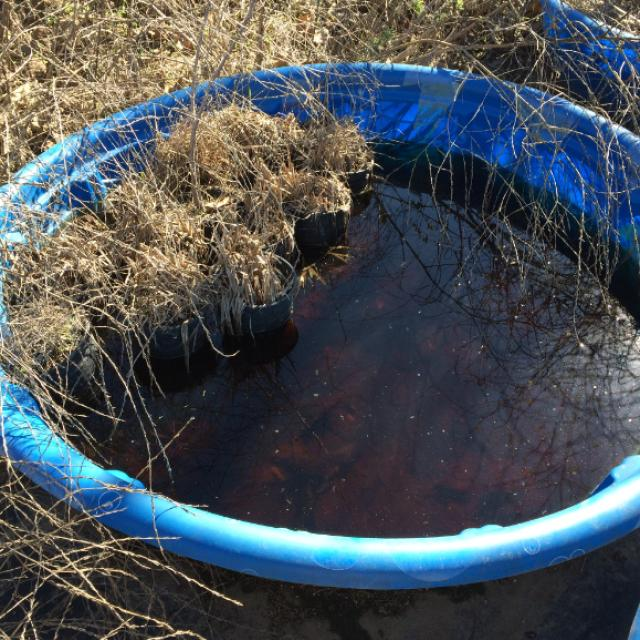Breeding Place: (0, 73, 640, 580)
